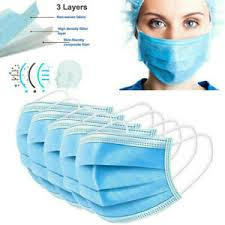mask: (72, 133, 206, 215)
